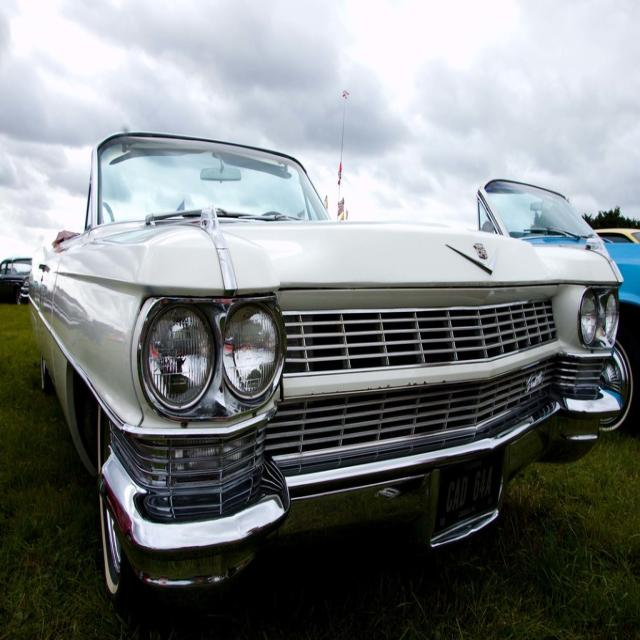car: (3, 106, 639, 602)
